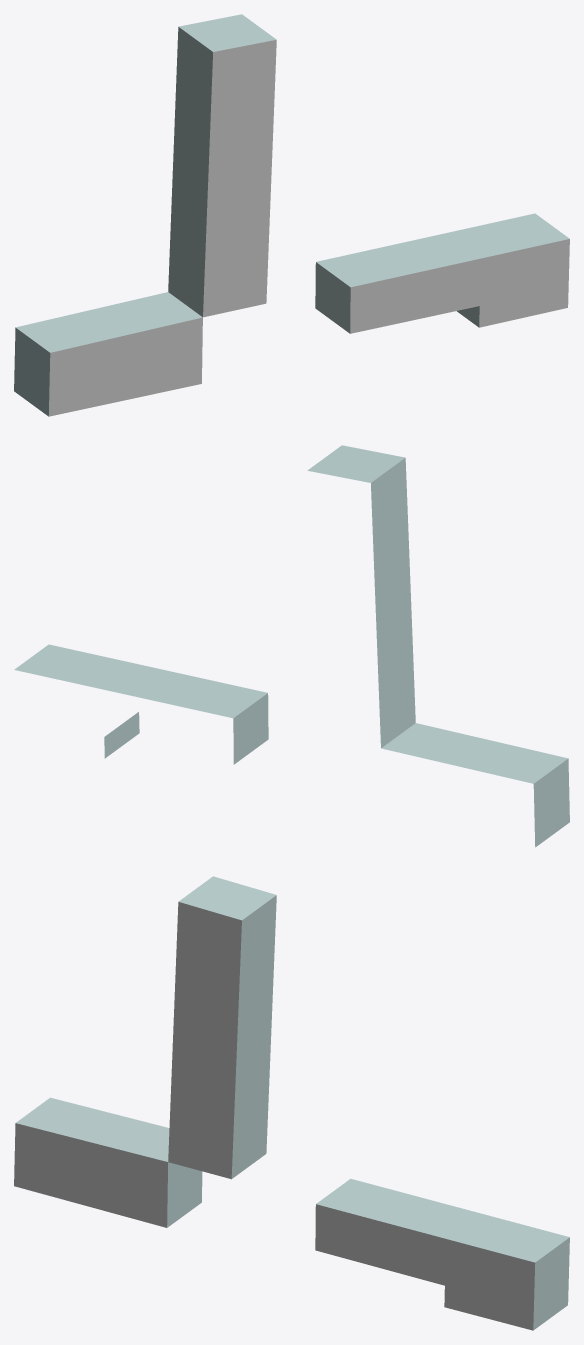
3 views of the same model, one above another, from view 1: azimuth 30°, elevation 25°; view 2: azimuth 150°, elevation 25°; view 3: azimuth 330°, elevation 25° (orthographic).
Visible parts, largest first — view 1: 0_3_1_3_1_2_2_1_1; view 2: 0_3_1_3_1_2_2_1_1; view 3: 0_3_1_3_1_2_2_1_1.
Part boxes in pixels (bbox=[...]): 0_3_1_3_1_2_2_1_1: bbox=[14, 14, 569, 416]; 0_3_1_3_1_2_2_1_1: bbox=[14, 445, 569, 847]; 0_3_1_3_1_2_2_1_1: bbox=[14, 876, 569, 1330].
Size of the model in its own units: 25.95 by 16.29 by 3.
